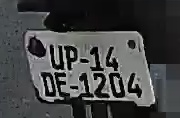0: (107, 71, 127, 97)
1: (78, 71, 93, 101), (89, 45, 104, 73)
2: (93, 70, 110, 100)
4: (125, 70, 145, 99), (105, 45, 120, 71)
D: (38, 70, 56, 98)
E: (53, 71, 70, 99)
P: (63, 41, 80, 71)
U: (46, 42, 66, 72)
